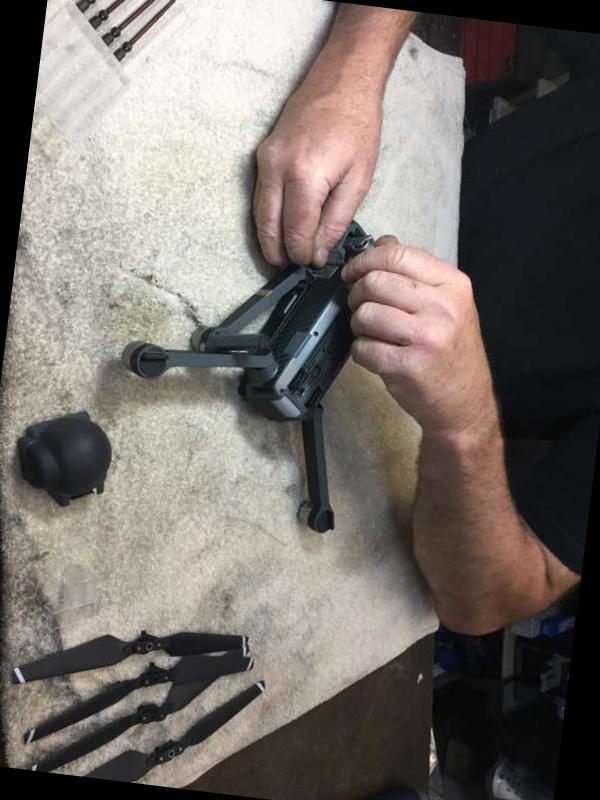drone: (101, 125, 452, 546)
